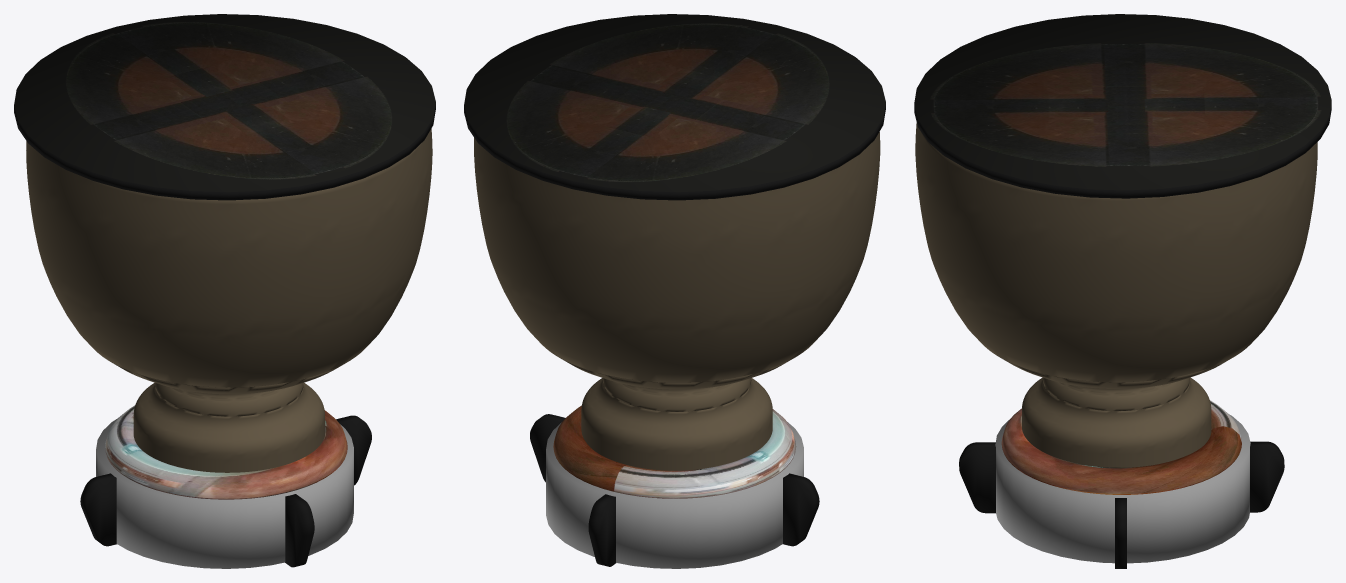
The model's file is Drum.obj.
The picture shows the model from 3 angles, left to right: view 1: azimuth 30°, elevation 25°; view 2: azimuth 150°, elevation 25°; view 3: azimuth 270°, elevation 25°; orthographic projection.
Parts seen in each view (by area): view 1: Line05, Cylinder02, Cylinder01, Torus01, Line03, Line04, Line01; view 2: Line05, Cylinder02, Cylinder01, Torus01, Line03, Line02, Line01; view 3: Line05, Cylinder02, Cylinder01, Torus01, Line04, Line02, Line01.
Part boxes in pixels (x1,y1,x2,y2): Line05: [26, 128, 432, 472]; Cylinder02: [14, 14, 435, 200]; Cylinder01: [96, 419, 353, 568]; Torus01: [105, 405, 347, 499]; Line03: [80, 473, 116, 546]; Line04: [285, 494, 314, 567]; Line01: [336, 415, 371, 485]; Line05: [474, 132, 880, 470]; Cylinder02: [464, 14, 885, 200]; Cylinder01: [546, 422, 803, 568]; Torus01: [553, 405, 796, 498]; Line03: [783, 473, 819, 546]; Line02: [588, 494, 615, 566]; Line01: [530, 414, 565, 482]; Line05: [915, 123, 1317, 467]; Cylinder02: [914, 14, 1331, 198]; Cylinder01: [995, 414, 1250, 563]; Torus01: [1001, 400, 1241, 494]; Line04: [959, 442, 995, 513]; Line02: [1250, 441, 1284, 512]; Line01: [1115, 498, 1126, 568].
Bounding box in the file's own units: 3.98 × 4.29 × 3.98.
